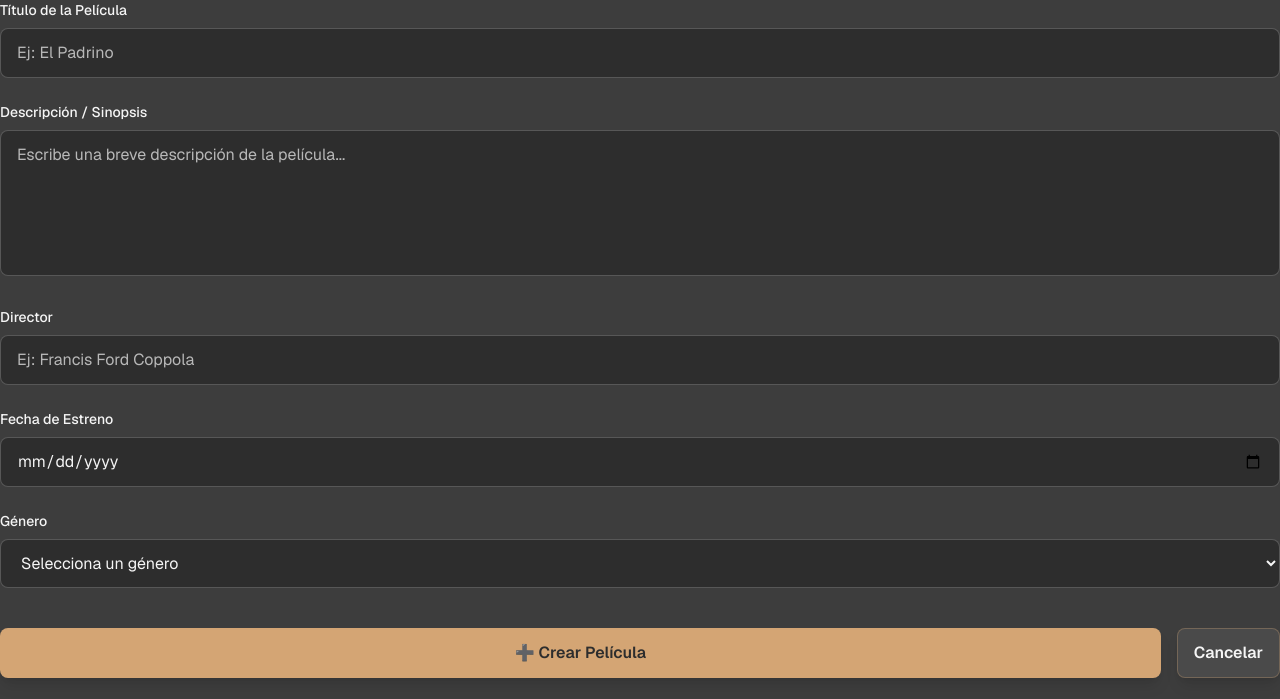
Test case: MovieForm › shows error message when submit fails
The image size is (1280, 699).
In the field labelled "Título de la Película": {"x": 640, "y": 53} [0,28,1279,78], type "Matrix"
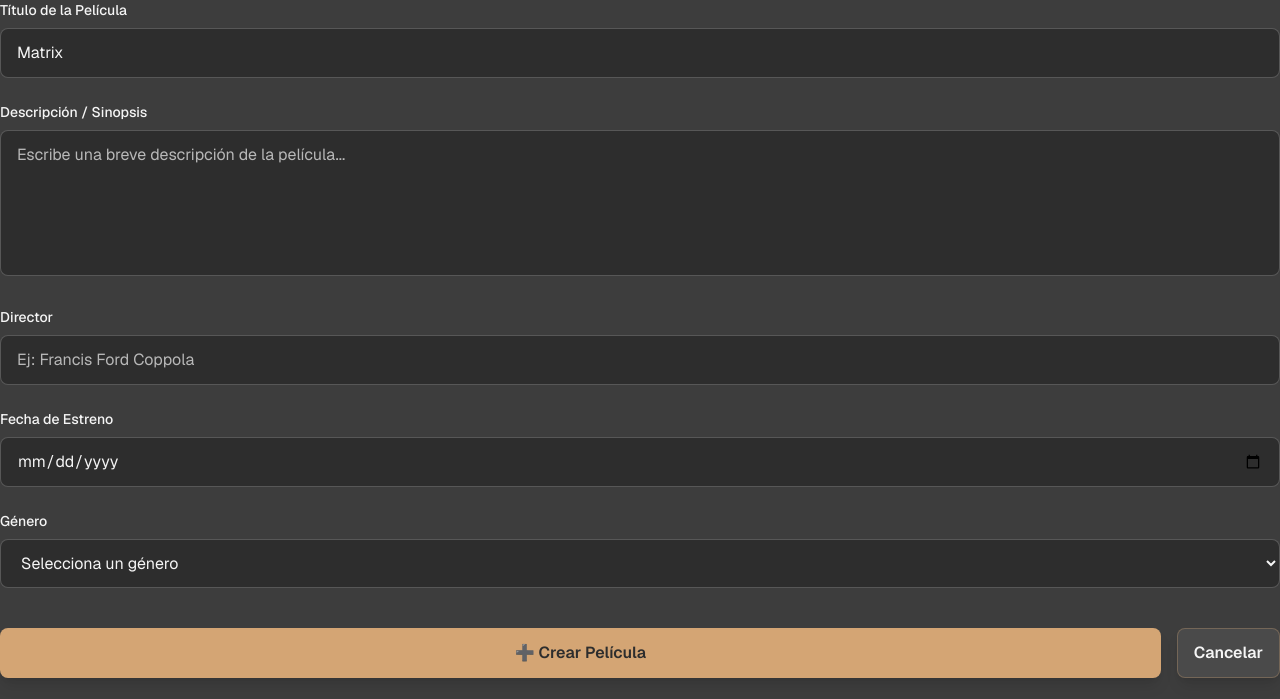
In the text box with placeholder "Escribe una breve descripción de la película...": {"x": 640, "y": 203} [0,130,1279,276], type "Descripción válida de película"
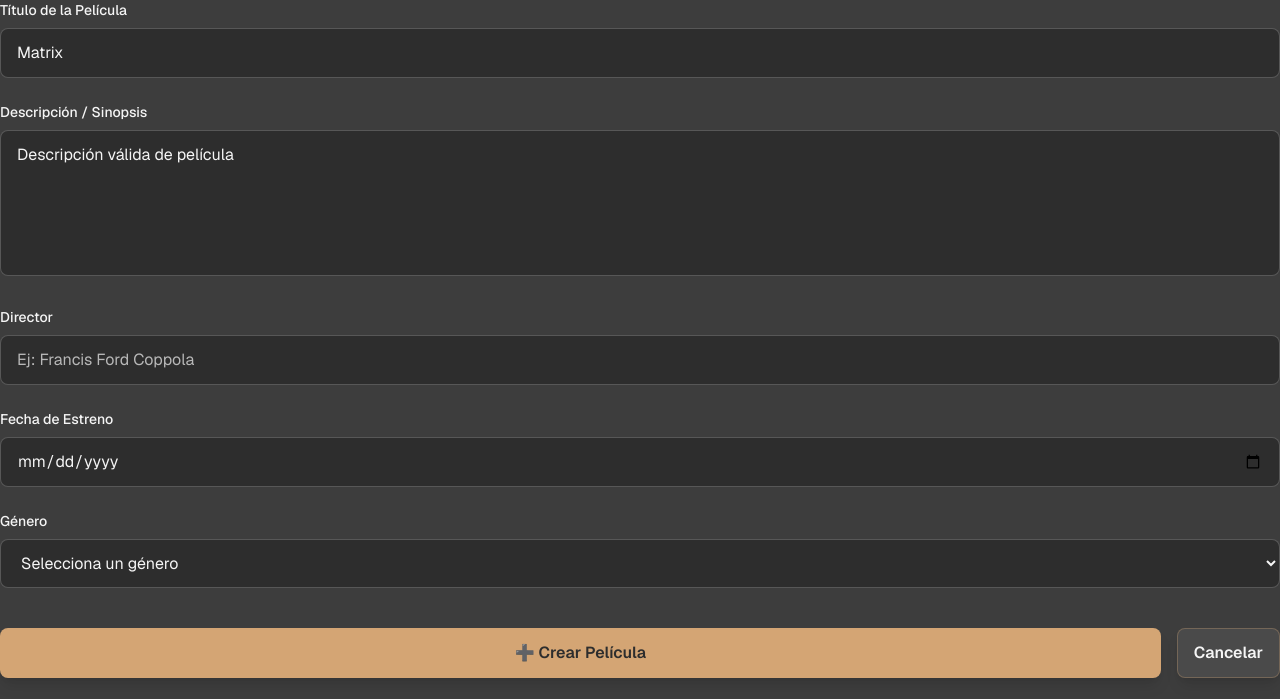
In the field labelled "Director": {"x": 640, "y": 360} [0,335,1279,385], type "Director"
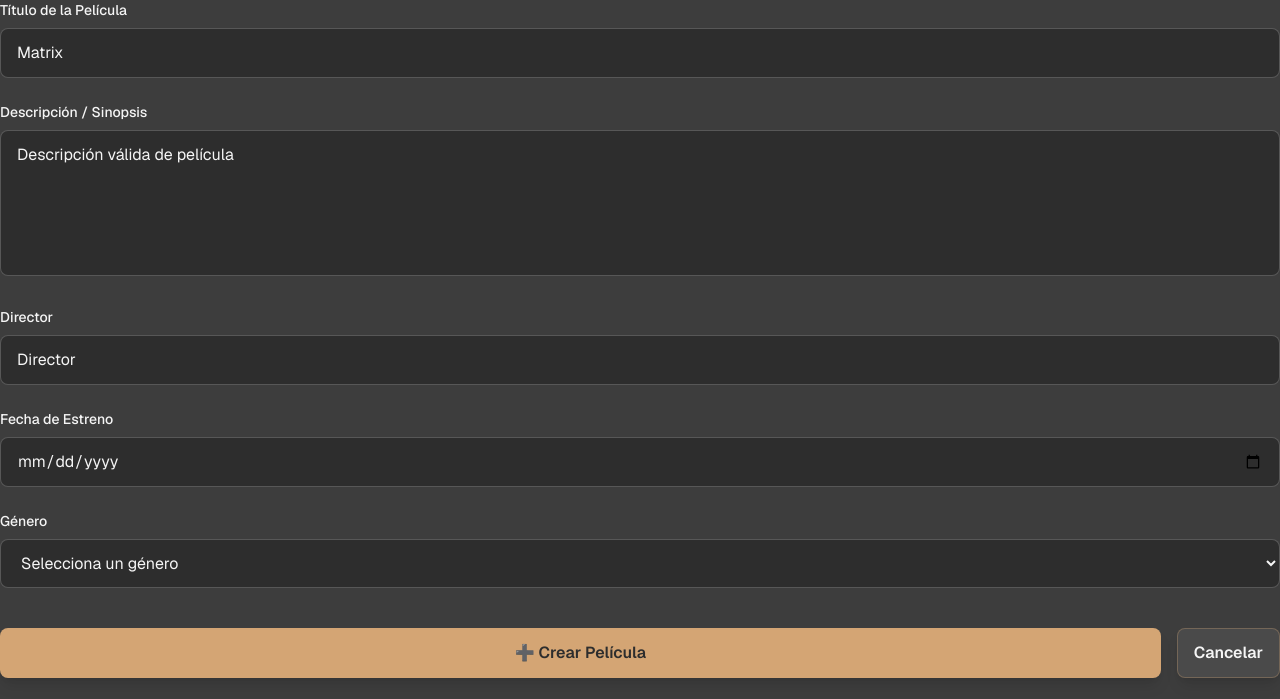
In the date field labelled "Fecha de Estreno": {"x": 640, "y": 462} [0,437,1279,487], type "2020-01-01"
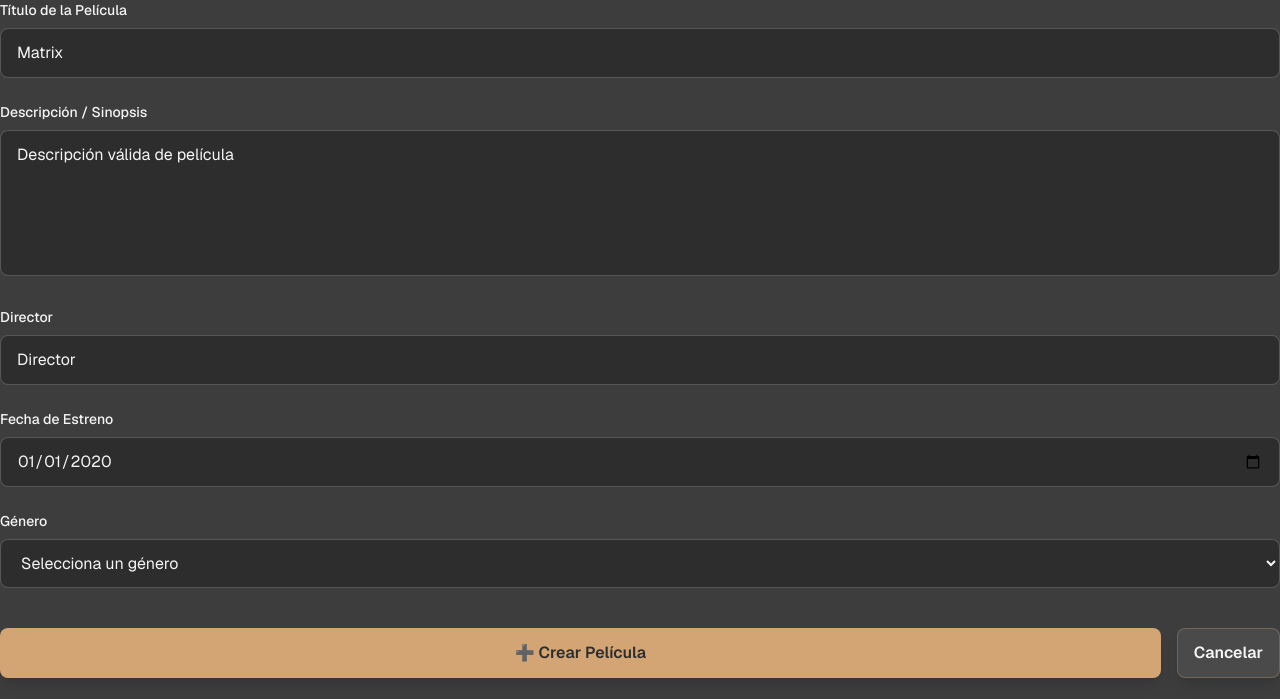
Select "Acción" in the dropdown: {"x": 640, "y": 564} [0,539,1279,588]
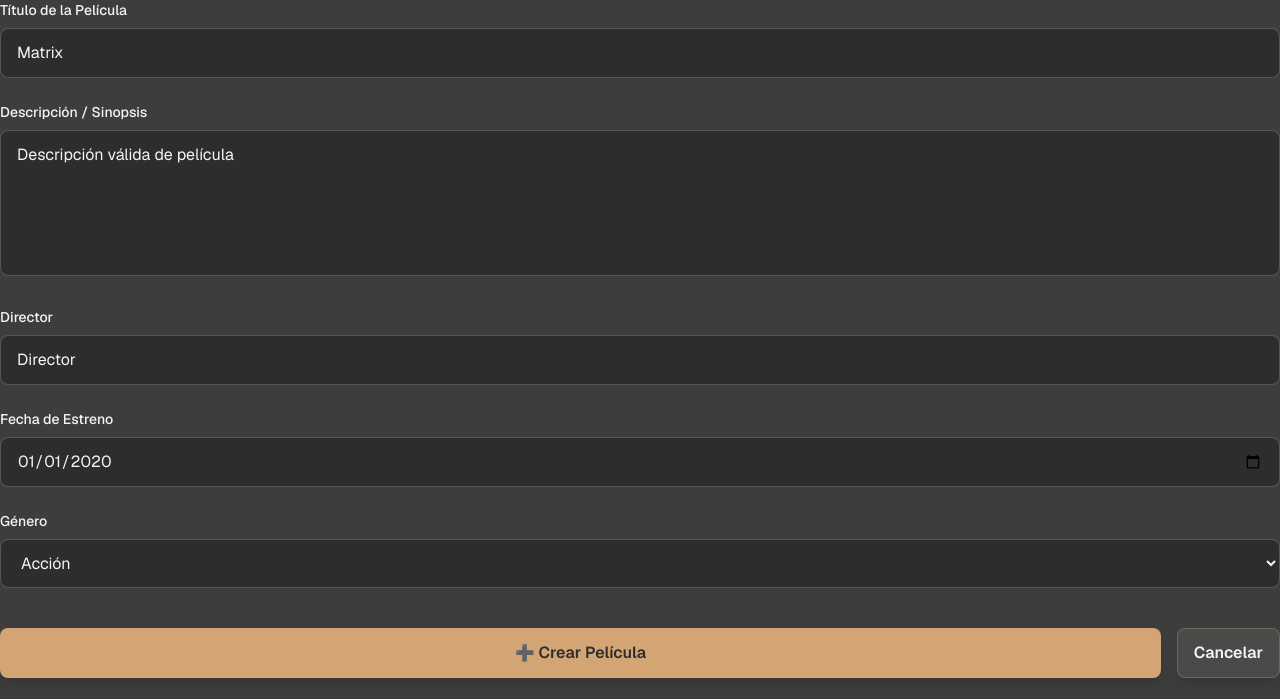
Click the button "➕ Crear Película": {"x": 580, "y": 653} [0,628,1161,678]
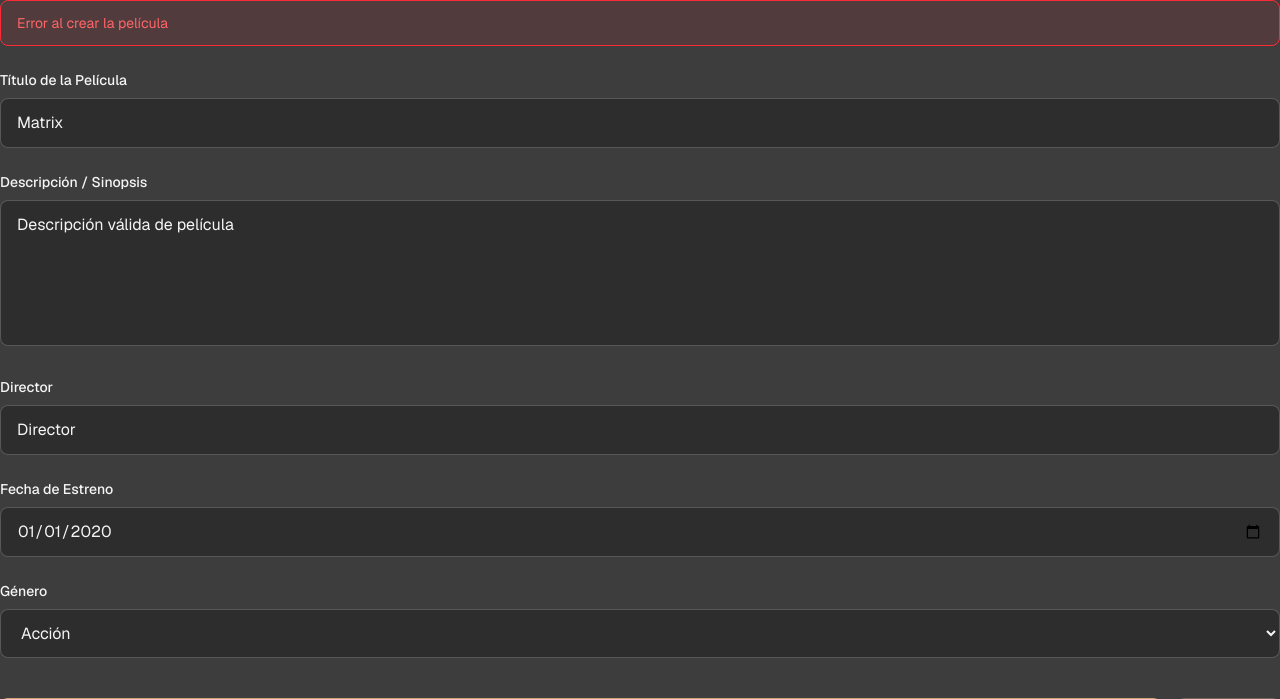
Expected: the text "Error al crear la película" is shown, [0,0,1279,46]
